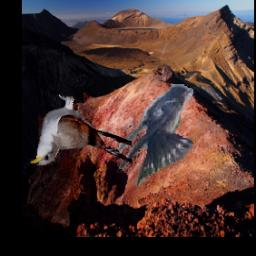Cuckoo: (28, 95, 132, 166)
Swallow: (117, 85, 195, 188)
